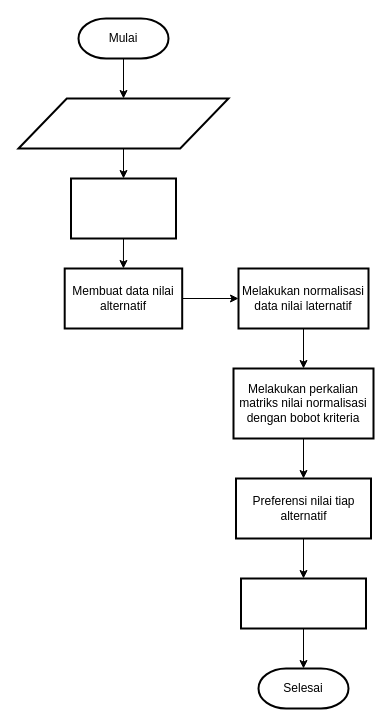
The diagram is 391 pixels wide and 726 high, and some of its shapes have lost their labels. Here are the shapes that lost their labels. From the top down, the box of each, then its label:
(17, 97, 229, 149): Data kriteria dan bobot; Data sepeda motor
(70, 177, 176, 239): Membuat matriks keputusan
(240, 577, 366, 629): Perankingan sepeda motor
